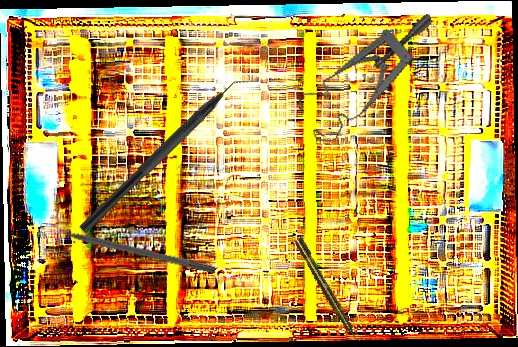Chopper: (77, 61, 262, 247)
Handpiece: (292, 236, 363, 345)
Pusher: (41, 221, 217, 275)
Speculum: (283, 13, 459, 148)
